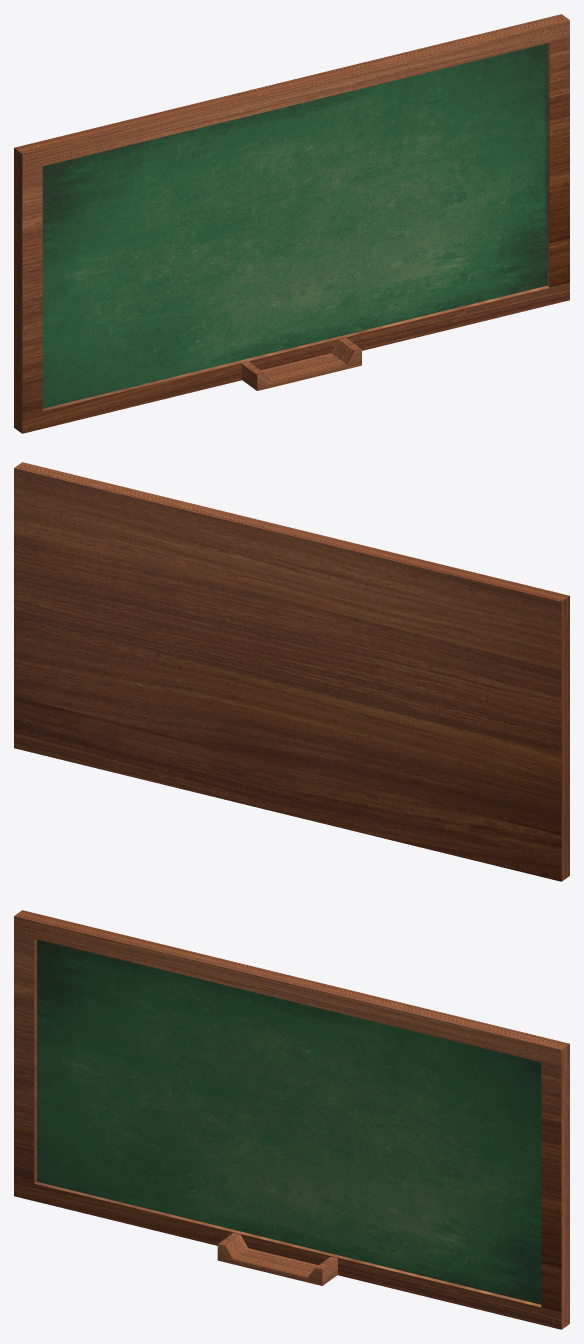
Rendered from PapanTulis_export.fbx.
3 views of the same model, one above another, from view 1: azimuth 30°, elevation 25°; view 2: azimuth 150°, elevation 25°; view 3: azimuth 330°, elevation 25° (orthographic).
Visible parts, largest first — view 1: Cube; view 2: Cube; view 3: Cube.
Part boxes in pixels (bbox=[...]): Cube: bbox=[14, 14, 569, 433]; Cube: bbox=[14, 462, 569, 881]; Cube: bbox=[14, 910, 569, 1329].
Bounding box in the file's own units: 1507 × 736 × 114.
2 materials, 2 textured.
